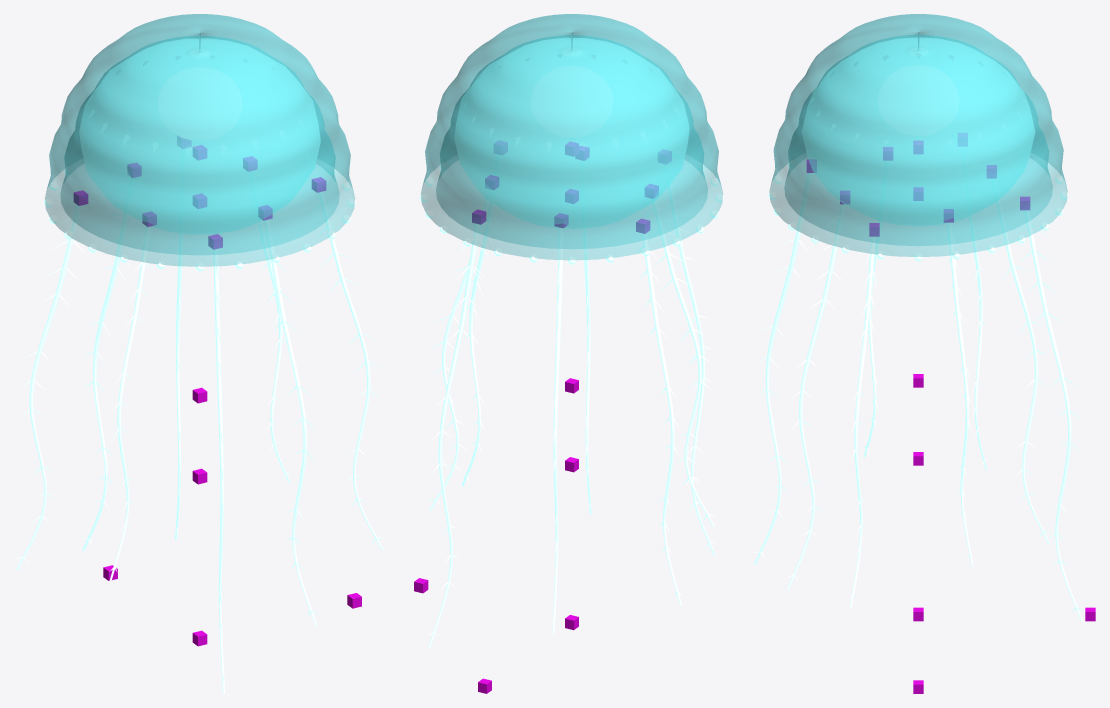
Rendered from 01_medusa_lanterna.glb.
The picture shows the model from 3 angles, left to right: view 1: azimuth 30°, elevation 25°; view 2: azimuth 150°, elevation 25°; view 3: azimuth 270°, elevation 25°; orthographic projection. The views are drawn at different scales.
Parts seen in each view (by area): view 1: Medusa__Ombrella_Gelatina__Galleggiamento__Ombrella, Medusa__Gas_Luminoso__Galleggiamento__Gas, Medusa__Lanterna__Galleggiamento, Medusa__Antenne__Antenna_6, Medusa__Antenne__Antenna_3, Medusa__Antenne__Antenna_5, Medusa__Antenne__Antenna_7, Medusa__Antenne__Antenna_2, Medusa__Antenne__Antenna_4, Medusa__Antenne__Antenna_1, Medusa__Antenne__Antenna_0, Medusa__Perline__Galleggiamento; view 2: Medusa__Ombrella_Gelatina__Galleggiamento__Ombrella, Medusa__Gas_Luminoso__Galleggiamento__Gas, Medusa__Lanterna__Galleggiamento, Medusa__Antenne__Antenna_1, Medusa__Antenne__Antenna_2, Medusa__Antenne__Antenna_5, Medusa__Antenne__Antenna_4, Medusa__Antenne__Antenna_3, Medusa__Antenne__Antenna_0, Medusa__Antenne__Antenna_7, Medusa__Antenne__Antenna_6, Medusa__Perline__Galleggiamento; view 3: Medusa__Ombrella_Gelatina__Galleggiamento__Ombrella, Medusa__Gas_Luminoso__Galleggiamento__Gas, Medusa__Lanterna__Galleggiamento, Medusa__Antenne__Antenna_1, Medusa__Antenne__Antenna_5, Medusa__Antenne__Antenna_6, Medusa__Antenne__Antenna_2, Medusa__Antenne__Antenna_7, Medusa__Antenne__Antenna_0, Medusa__Antenne__Antenna_3, Medusa__Perline__Galleggiamento, Medusa__Antenne__Antenna_4.
Part boxes in pixels (x1,y1,x2,y2): Medusa__Ombrella_Gelatina__Galleggiamento__Ombrella: (45, 14, 354, 266); Medusa__Gas_Luminoso__Galleggiamento__Gas: (79, 38, 320, 234); Medusa__Lanterna__Galleggiamento: (158, 68, 241, 140); Medusa__Antenne__Antenna_6: (258, 219, 317, 626); Medusa__Antenne__Antenna_3: (15, 205, 91, 570); Medusa__Antenne__Antenna_5: (213, 249, 224, 693); Medusa__Antenne__Antenna_7: (308, 191, 384, 550); Medusa__Antenne__Antenna_2: (81, 212, 137, 550); Medusa__Antenne__Antenna_4: (109, 226, 155, 580); Medusa__Antenne__Antenna_1: (175, 233, 183, 539); Medusa__Antenne__Antenna_0: (252, 220, 290, 482); Medusa__Perline__Galleggiamento: (44, 167, 355, 271); Medusa__Ombrella_Gelatina__Galleggiamento__Ombrella: (421, 14, 722, 259); Medusa__Gas_Luminoso__Galleggiamento__Gas: (454, 38, 689, 228); Medusa__Lanterna__Galleggiamento: (531, 66, 612, 136); Medusa__Antenne__Antenna_1: (428, 224, 486, 647); Medusa__Antenne__Antenna_2: (552, 227, 563, 633); Medusa__Antenne__Antenna_5: (662, 177, 716, 555); Medusa__Antenne__Antenna_4: (644, 200, 715, 526); Medusa__Antenne__Antenna_3: (636, 233, 682, 606); Medusa__Antenne__Antenna_0: (428, 198, 500, 510); Medusa__Antenne__Antenna_7: (461, 201, 497, 486); Medusa__Antenne__Antenna_6: (583, 228, 591, 514); Medusa__Perline__Galleggiamento: (420, 163, 723, 264); Medusa__Ombrella_Gelatina__Galleggiamento__Ombrella: (769, 14, 1067, 256); Medusa__Gas_Luminoso__Galleggiamento__Gas: (802, 37, 1034, 225); Medusa__Lanterna__Galleggiamento: (878, 66, 958, 135); Medusa__Antenne__Antenna_1: (1015, 210, 1083, 622); Medusa__Antenne__Antenna_5: (753, 173, 819, 565); Medusa__Antenne__Antenna_6: (786, 204, 852, 589); Medusa__Antenne__Antenna_2: (988, 193, 1049, 543); Medusa__Antenne__Antenna_7: (850, 237, 876, 608); Medusa__Antenne__Antenna_0: (945, 223, 973, 566); Medusa__Antenne__Antenna_3: (967, 215, 987, 470); Medusa__Perline__Galleggiamento: (768, 161, 1068, 261); Medusa__Antenne__Antenna_4: (863, 221, 886, 457).
Size of the model in its own units: 3 by 5.66 by 3.
